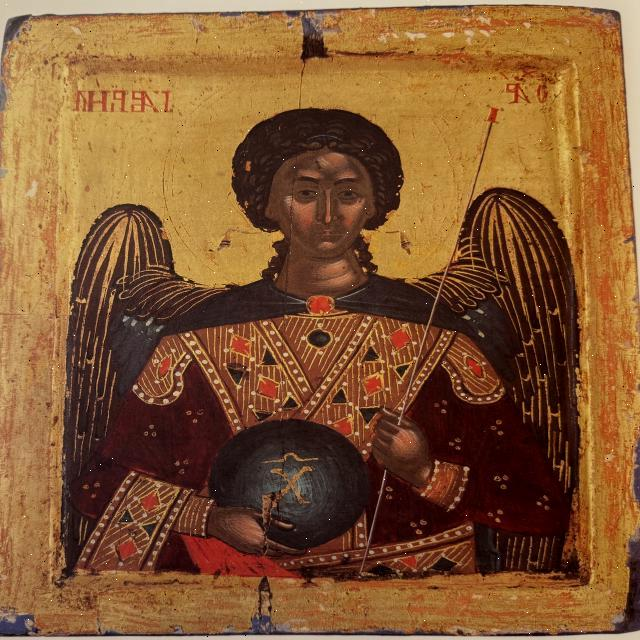angel: (54, 62, 594, 570)
aura: (159, 78, 459, 276)
scepter: (358, 108, 508, 579)
shield: (205, 420, 366, 548)
wing: (458, 189, 588, 579), (60, 204, 180, 568)
